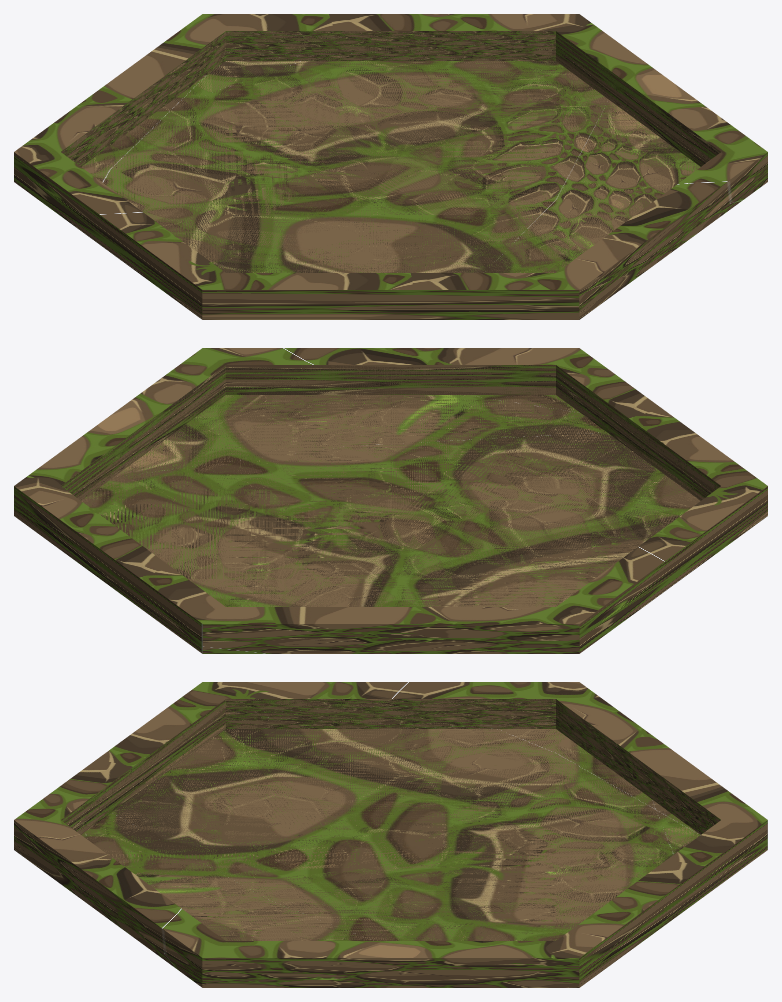
The model's file is stoneMap.fbx.
3 renders of one model, top to bottom at view 1: azimuth 30°, elevation 25°; view 2: azimuth 150°, elevation 25°; view 3: azimuth 270°, elevation 25°, orthographic.
Parts seen in each view (by area): view 1: Cylinder; view 2: Cylinder; view 3: Cylinder.
Part boxes in pixels (x1=…): Cylinder: x1=14, y1=14, x2=767, y2=319; Cylinder: x1=14, y1=348, x2=767, y2=653; Cylinder: x1=14, y1=682, x2=767, y2=987.
Bounding box in the file's own units: 3954 × 200 × 4566.
